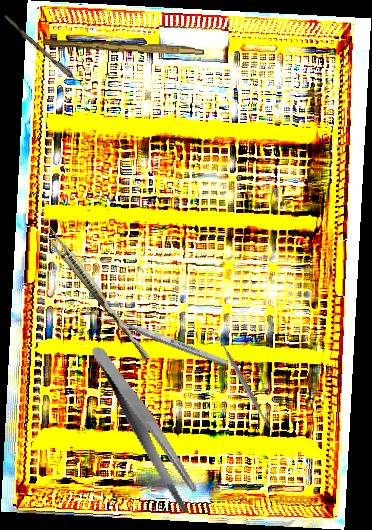Dressing Forceps: (90, 330, 203, 527)
Scalpel Handle: (42, 38, 205, 55)
Spatula Surgical: (208, 326, 278, 437)
Surgical Spoon: (1, 14, 99, 100), (98, 310, 229, 368)
Tissue Forceps: (39, 225, 155, 362)
